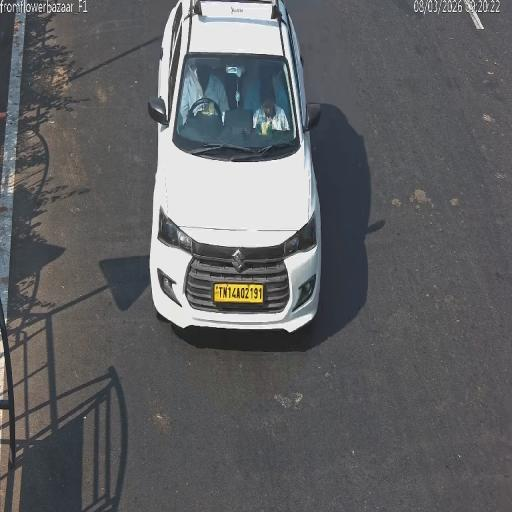person_with_seatbelt: (184, 61, 208, 111)
person_without_seatbelt: (257, 108, 286, 132)
